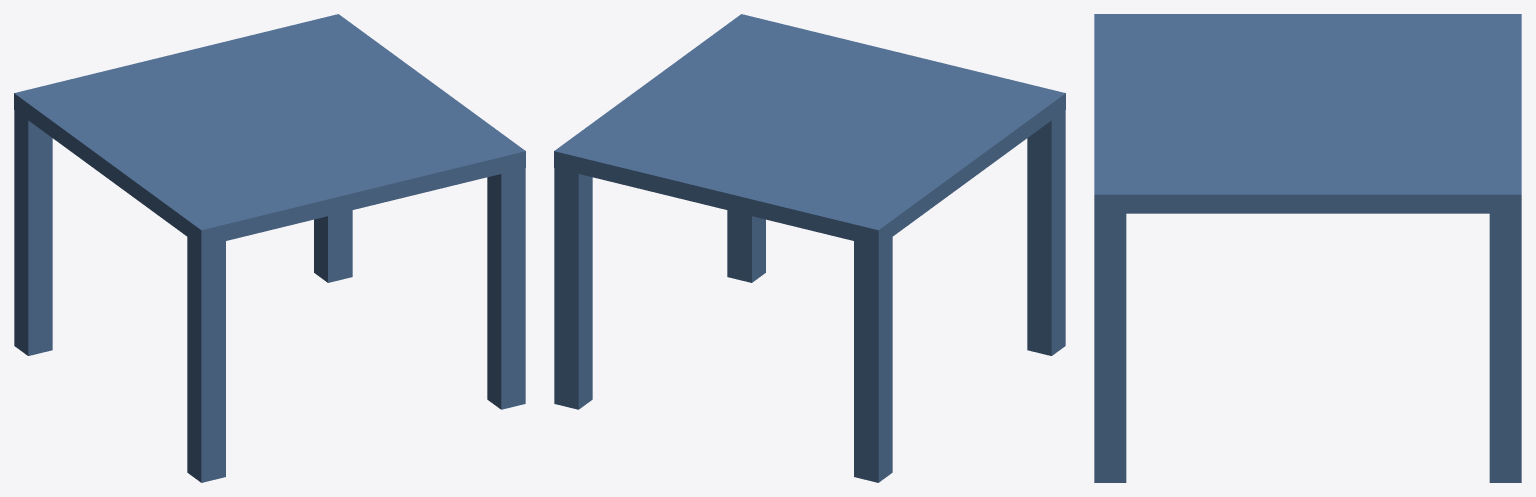
Rendered from komnataVRproject.fbx.
3 views of the same model, side by side, from view 1: azimuth 30°, elevation 25°; view 2: azimuth 150°, elevation 25°; view 3: azimuth 270°, elevation 25° (orthographic). The views are drawn at different scales.
Parts seen in each view (by area): view 1: Cube.005, Cube.006; view 2: Cube.005, Cube.006; view 3: Cube.005, Cube.006.
Part boxes in pixels (x1=…): Cube.005: x1=14, y1=14, x2=525, y2=246; Cube.006: x1=14, y1=110, x2=525, y2=482; Cube.005: x1=554, y1=14, x2=1065, y2=246; Cube.006: x1=554, y1=110, x2=1065, y2=482; Cube.005: x1=1094, y1=14, x2=1521, y2=213; Cube.006: x1=1094, y1=213, x2=1521, y2=482.
Size of the model in its own units: 98.73 by 73.49 by 98.73.
